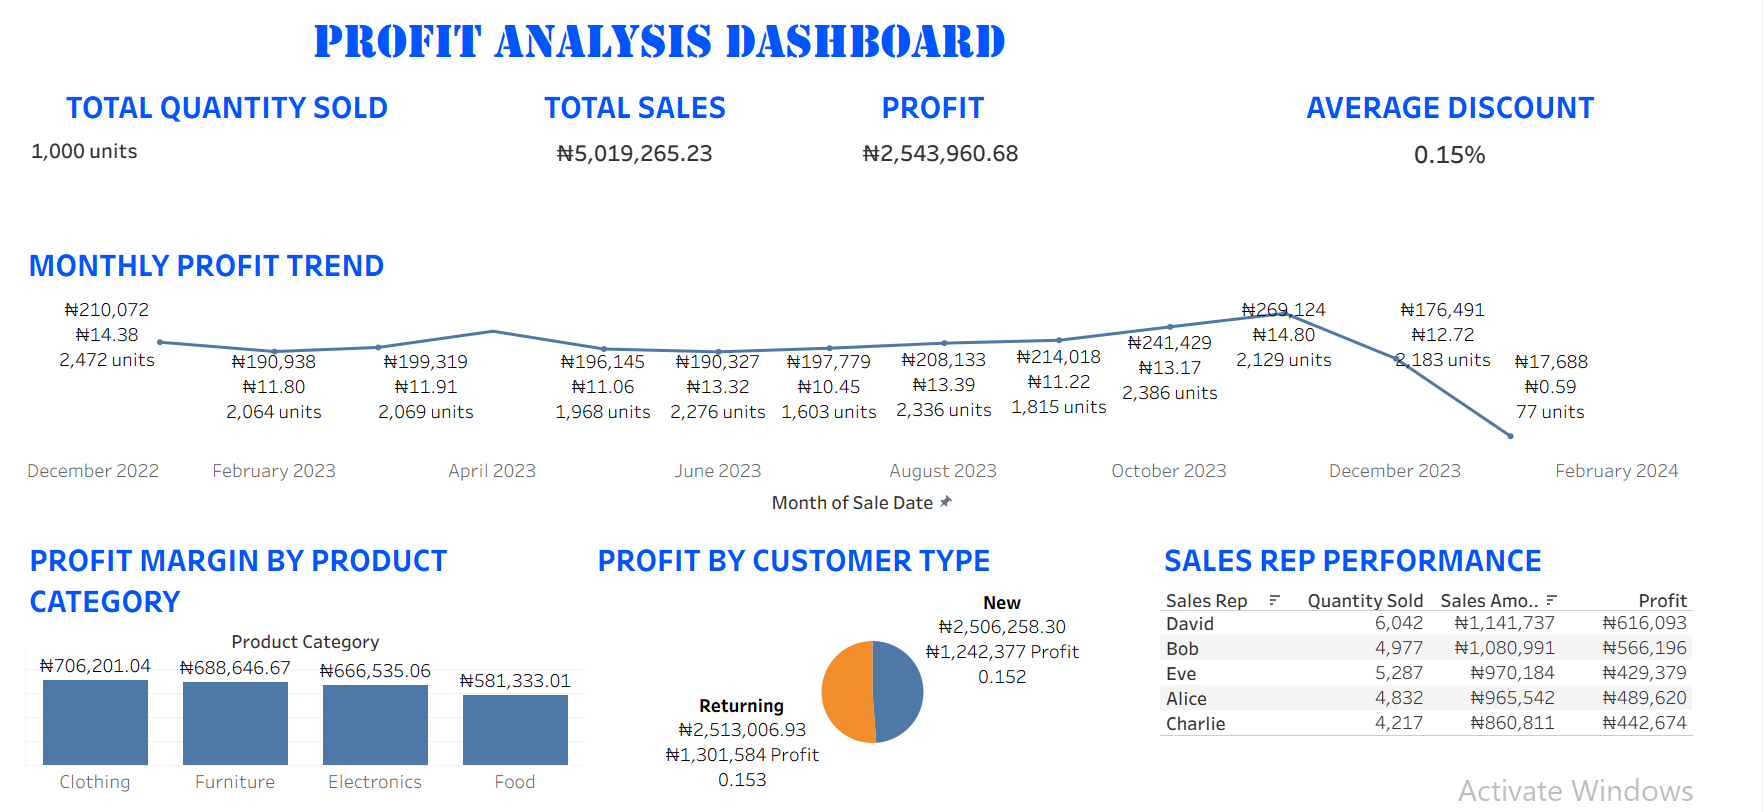

The dashboard page shown, as its layout file describes it:
{"tool":"tableau","page":{"name":"Dashboard 4","canvas":[1000,1000],"units":"permille","ordinal":3},"visuals":[{"type":"text","box":[99.8,13.5,549.3,75.8]},{"type":"worksheet","title":"TOTAL QUANTITY SOLD","mark":"Automatic","box":[10.2,95.4,233.8,193.2]},{"type":"worksheet","title":"TOTAL SALES","mark":"Automatic","box":[244,95.4,233.2,193.2]},{"type":"worksheet","title":"PROFIT","mark":"Automatic","box":[477.2,95.4,233.2,193.2]},{"type":"worksheet","title":"AVERAGE DISCOUNT","mark":"Automatic","box":[710.3,95.4,233.2,193.2]},{"type":"worksheet","title":"MONTHLY PROFIT TREND","mark":"Automatic","rows":["Calculation_499899626292563968"],"cols":["Sale_Date"],"box":[8.4,292.2,952.5,360.6]},{"type":"worksheet","title":"PROFIT MARGIN BY PRODUCT CATEGORY","mark":"Automatic","rows":["Calculation_499899626328244231"],"cols":["Product_Category"],"box":[9,658.9,324.5,332.5]},{"type":"worksheet","title":"PROFIT BY CUSTOMER TYPE","mark":"Pie","box":[333.5,658.9,324.5,332.5]},{"type":"worksheet","title":"SALES REP PERFORMANCE","mark":"Automatic","rows":["Sales_Rep"],"box":[658.1,658.9,324.5,332.5]}]}

Visuals, with their boxes on the dashboard's canvas, which has no fixed pixel size, in thousandths of its width and height (x1, y1, x2, y2). These are canvas units, not pixel positions in the 1763x812 screenshot, which may show the page scaled, cropped or inside an application window:
text: [100, 14, 649, 89]
"TOTAL QUANTITY SOLD" worksheet: [10, 95, 244, 289]
"TOTAL SALES" worksheet: [244, 95, 477, 289]
"PROFIT" worksheet: [477, 95, 710, 289]
"AVERAGE DISCOUNT" worksheet: [710, 95, 944, 289]
"MONTHLY PROFIT TREND" worksheet: [8, 292, 961, 653]
"PROFIT MARGIN BY PRODUCT CATEGORY" worksheet: [9, 659, 334, 991]
"PROFIT BY CUSTOMER TYPE" worksheet (Pie marks): [334, 659, 658, 991]
"SALES REP PERFORMANCE" worksheet: [658, 659, 983, 991]
